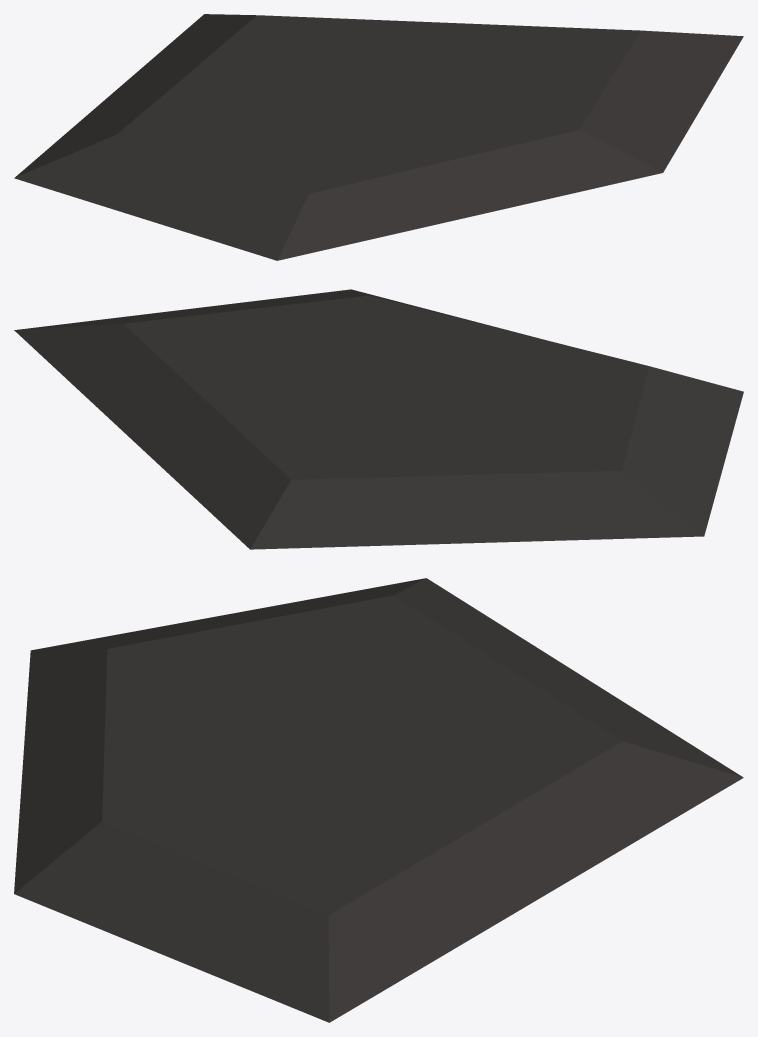
The model's file is Stone_Tile_03.glb.
3 renders of one model, top to bottom at view 1: azimuth 30°, elevation 25°; view 2: azimuth 150°, elevation 25°; view 3: azimuth 270°, elevation 25°, orthographic. The views are drawn at different scales.
Visible parts, largest first — view 1: Stone_Tile_03; view 2: Stone_Tile_03; view 3: Stone_Tile_03.
Boxes of the visible parts, box(x1,y1,x2,y2) form: Stone_Tile_03: box(14, 14, 743, 260); Stone_Tile_03: box(14, 289, 743, 549); Stone_Tile_03: box(14, 578, 743, 1022).
Size of what is drawn, in the model's own units: 0.8469 by 0.0364 by 0.5873.
Materials: 1 (1 with a texture image).
